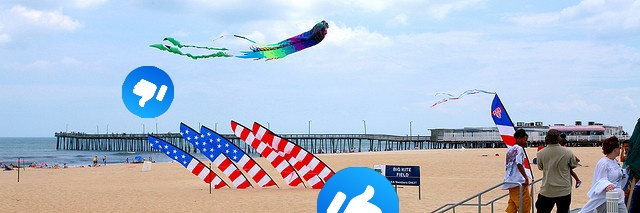like: (317, 167, 399, 213), (122, 66, 174, 118)
